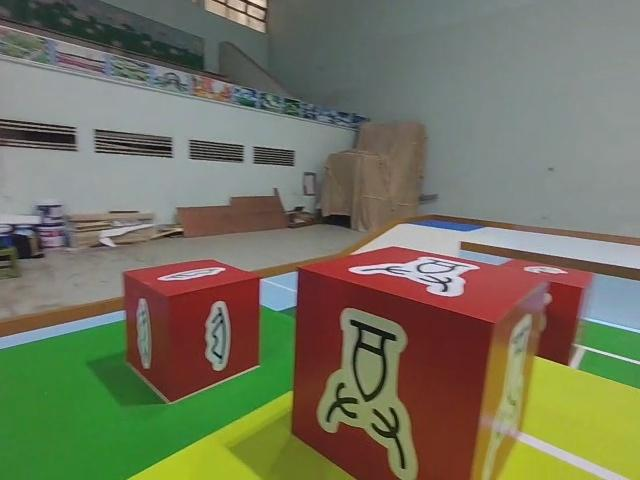R2 Real: (289, 245, 553, 480), (121, 254, 262, 403)
